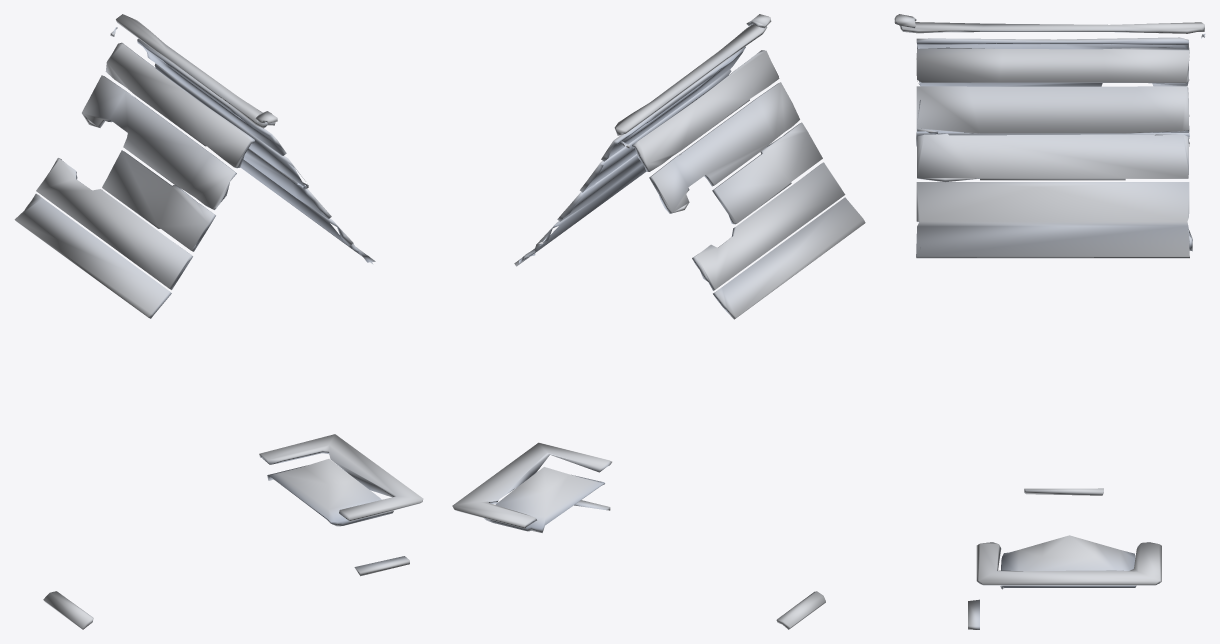
The model's file is protocol.gondi.snow.glb.
The picture shows the model from 3 angles, left to right: view 1: azimuth 30°, elevation 25°; view 2: azimuth 150°, elevation 25°; view 3: azimuth 270°, elevation 25°; orthographic projection. The views are drawn at different scales.
Visible parts, largest first — view 1: building.protocol.gondi.snow.mesh; view 2: building.protocol.gondi.snow.mesh; view 3: building.protocol.gondi.snow.mesh.
Part boxes in pixels (box(x1,y1,x2,y2)): building.protocol.gondi.snow.mesh: box(14, 14, 423, 629); building.protocol.gondi.snow.mesh: box(452, 24, 865, 629); building.protocol.gondi.snow.mesh: box(900, 22, 1205, 629).
Size of the model in its own units: 5.55 by 8.68 by 4.54.
